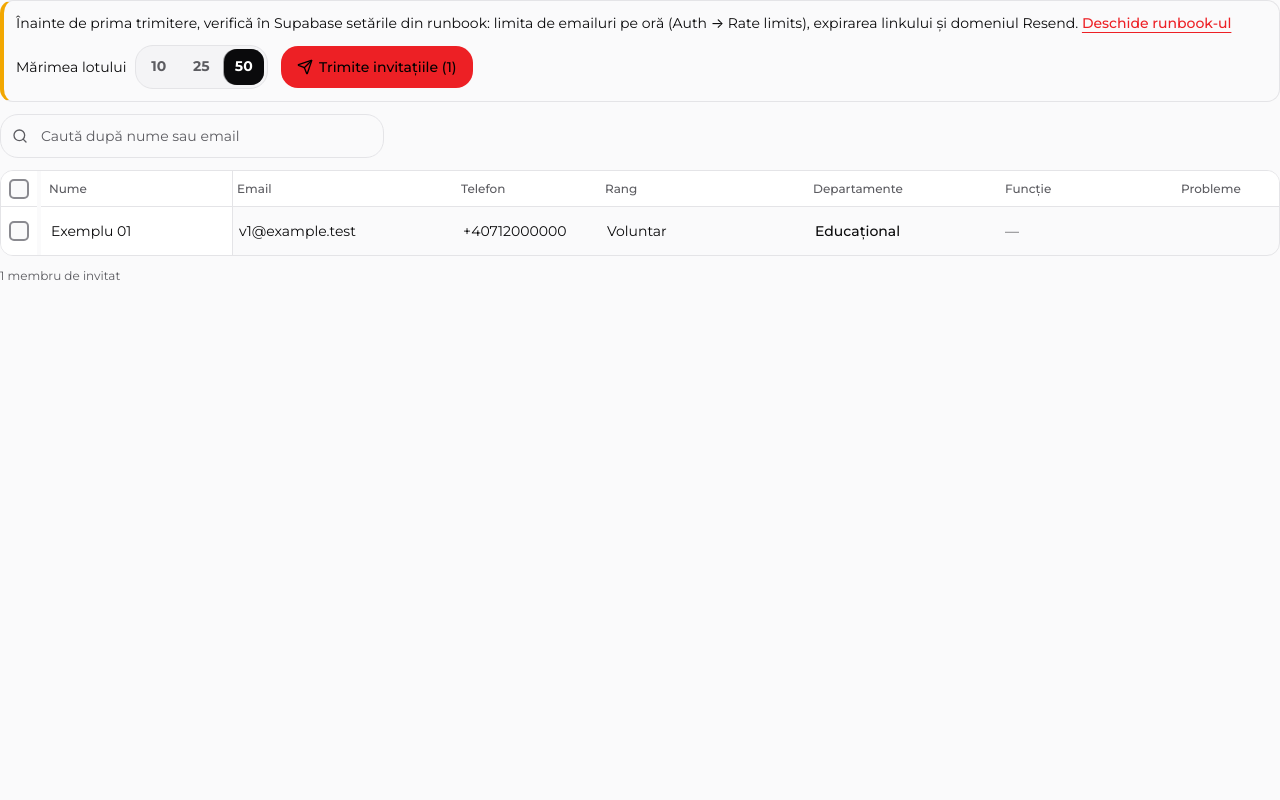
Test: inline edits › shows the server's reason for a taken address, the input still open
This screenshot has width=1280, height=800.
Click the button with aria-label "Editează emailul pentru Exemplu 01": (341, 231) [233, 211, 449, 251]
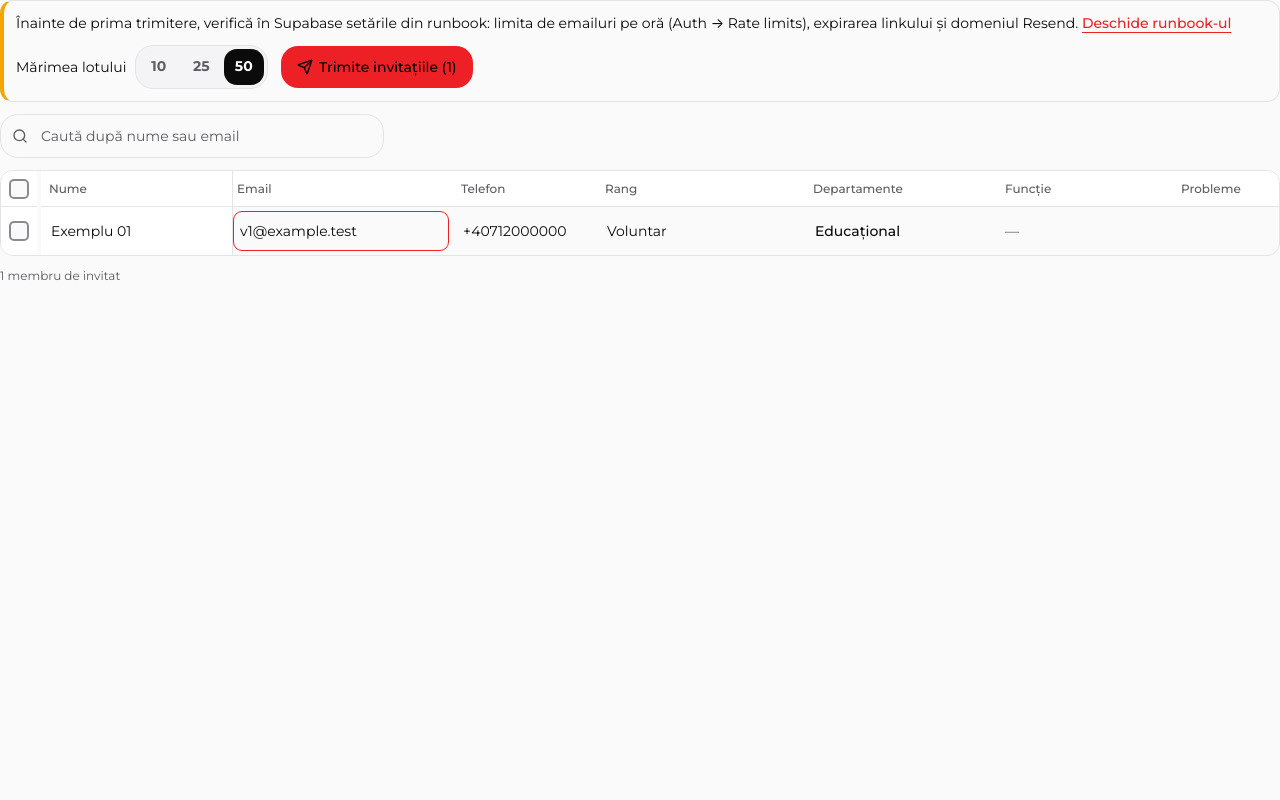
Replace the text in the field named "Emailul pentru Exemplu 01" with "luat@example.test": (341, 231) [233, 211, 449, 251]
Then press Enter
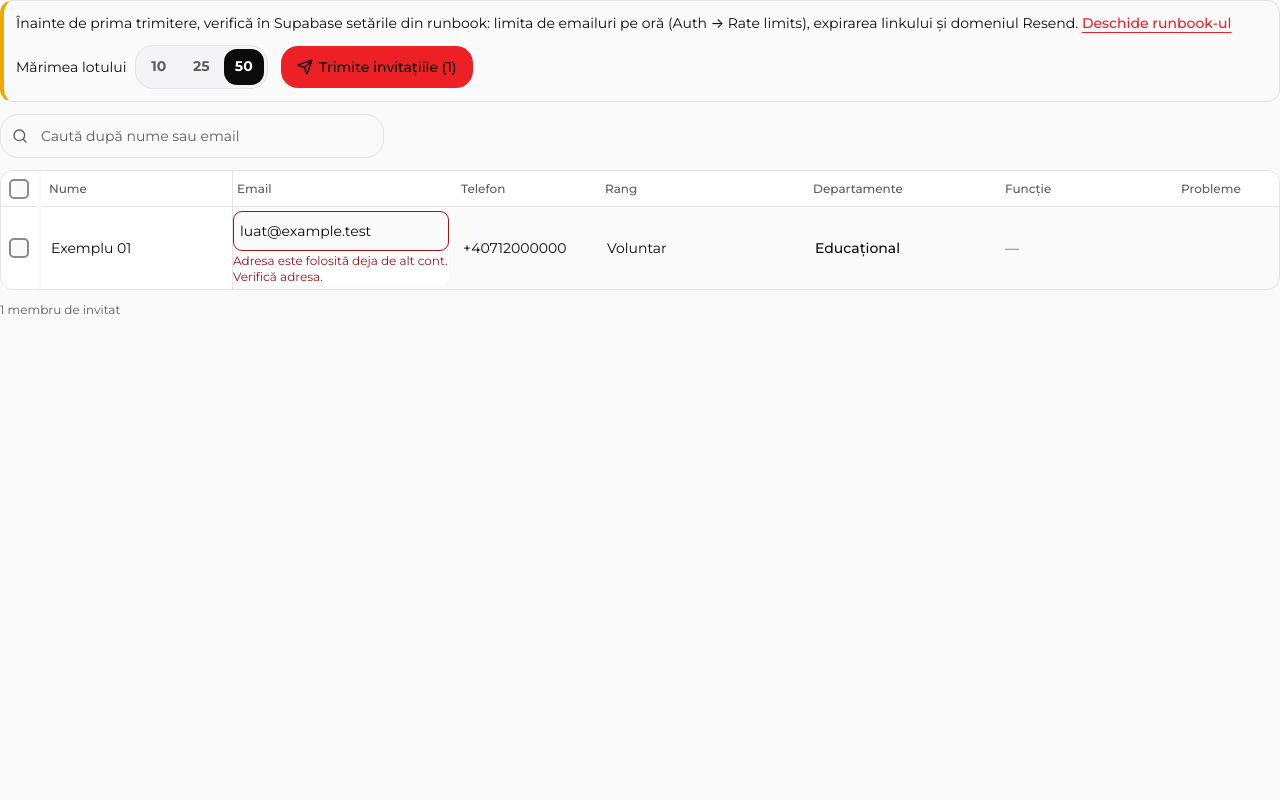
Expected: the message reads "Adresa este folosită deja de alt cont. Verifică adresa.", [233, 253, 448, 284]
